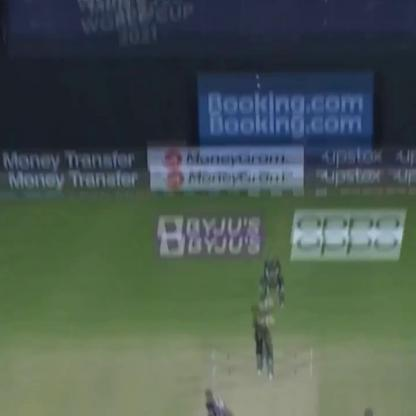ball: (251, 82, 266, 92), (249, 72, 263, 80)
pitch: (190, 342, 328, 414)
